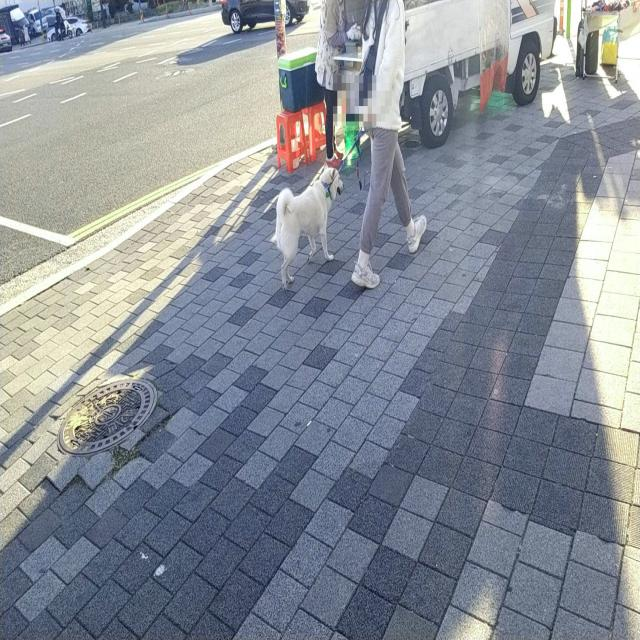Leashed_Dog: (275, 115, 385, 290)
